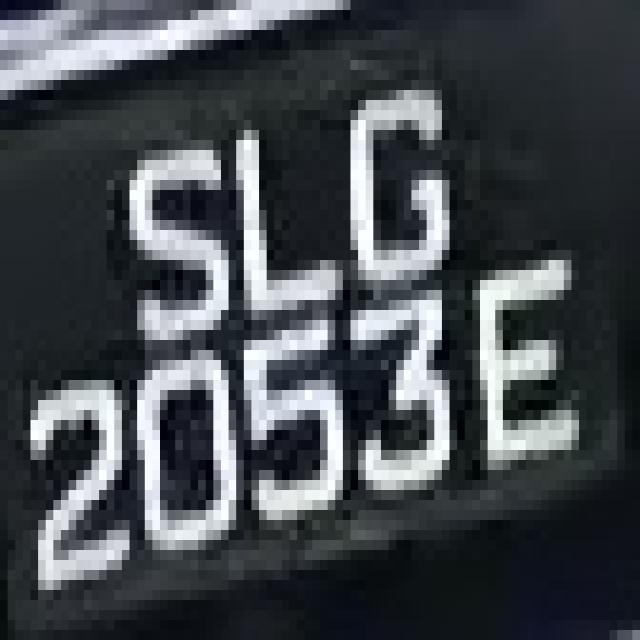0: (114, 360, 244, 570)
2: (8, 370, 144, 590)
3: (343, 290, 457, 500)
5: (213, 310, 381, 550)
E: (449, 250, 602, 500)
G: (343, 40, 465, 300)
L: (214, 120, 350, 320)
S: (114, 110, 229, 340)
